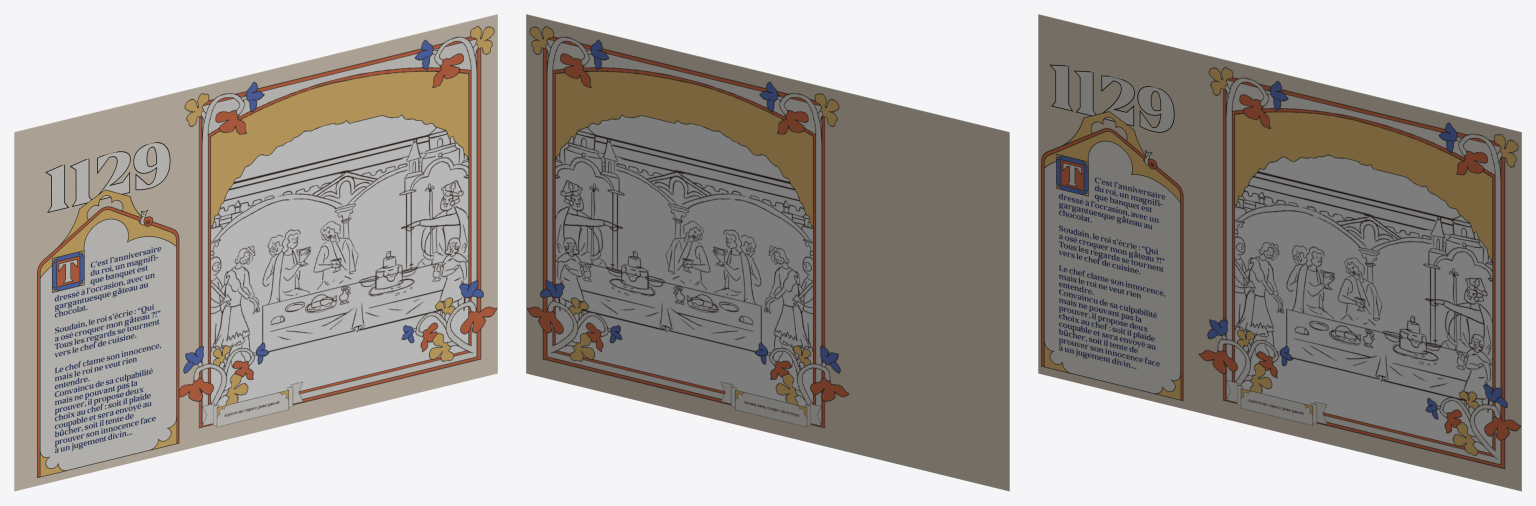
Rendered from cinematic.glb.
The picture shows the model from 3 angles, left to right: view 1: azimuth 30°, elevation 25°; view 2: azimuth 150°, elevation 25°; view 3: azimuth 330°, elevation 25°; orthographic projection.
Parts seen in each view (by area): view 1: intro context, Group_3801; view 2: intro context; view 3: intro context, Group_3801.
Boxes of the visible parts, box(x1,y1,x2,y2) form: intro context: box(14, 14, 497, 491); Group_3801: box(37, 142, 179, 477); intro context: box(526, 14, 1009, 491); intro context: box(1038, 14, 1521, 491); Group_3801: box(1041, 64, 1183, 400).
Size of the model in its own units: 1.41 by 1 by 0.05.
Materials: 3 (2 with a texture image).
